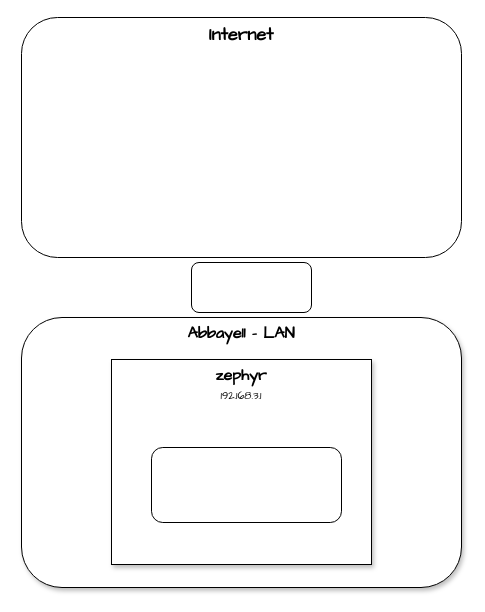
Image size: 485x612. Some labels were removed from this diagram. The centre of each missing label's shape, as x and y in pixels:
"Docker engine" belongs at pixel 246 484.
"public IP" belongs at pixel 251 287.
